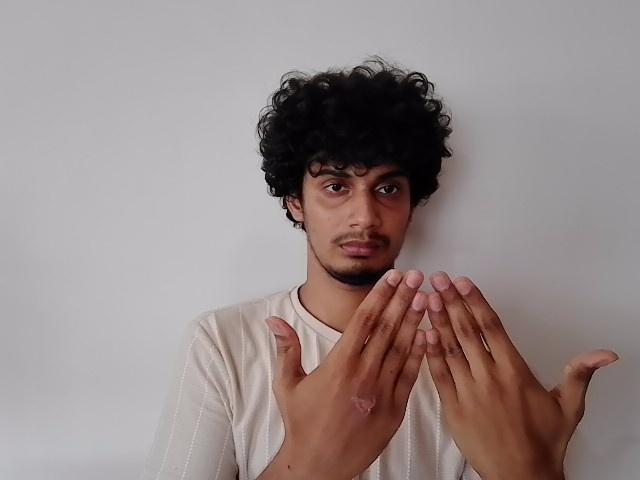thankyou: (259, 267, 618, 480)
